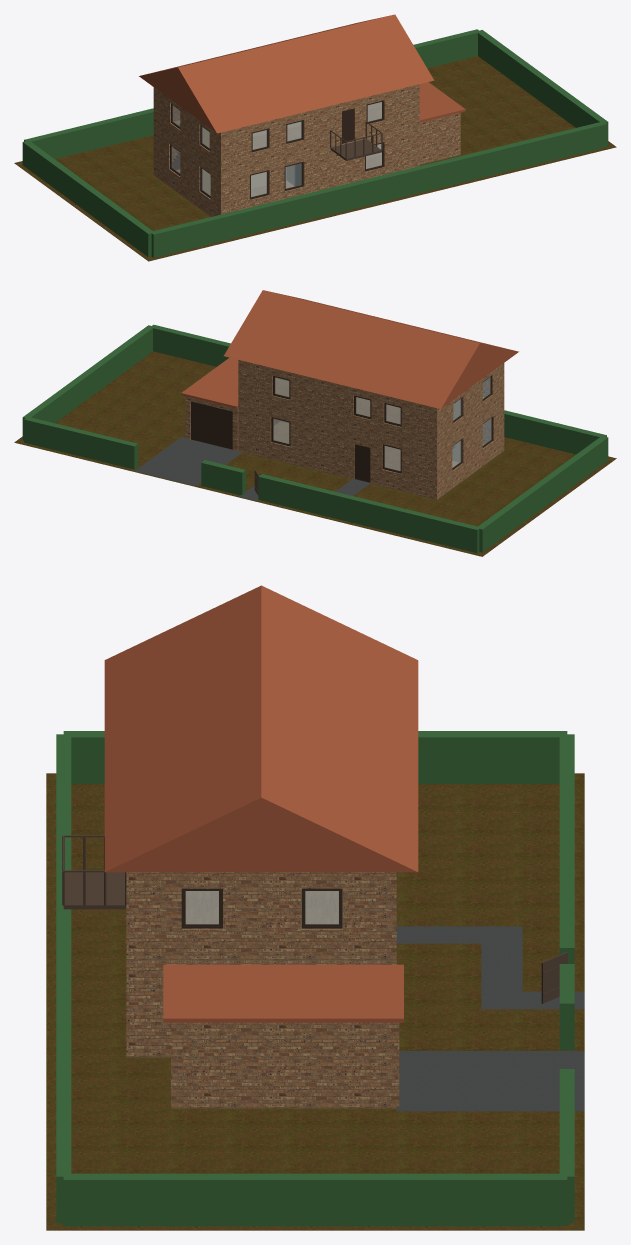
The model's file is house.gltf.
3 views of the same model, one above another, from view 1: azimuth 30°, elevation 25°; view 2: azimuth 150°, elevation 25°; view 3: azimuth 270°, elevation 25° (orthographic). The views are drawn at different scales.
Visible parts, largest first — view 1: hedge, ext_walls, roofs, grass, glass, frames, wood, floor, walls; view 2: ext_walls, hedge, roofs, grass, frames, gravel, glass, floor; view 3: grass, roofs, hedge, ext_walls, gravel, wood, floor, glass, frames.
Boxes of the visible parts, box(x1,y1,x2,y2) form: hedge: box(22, 29, 608, 257); ext_walls: box(153, 84, 460, 216); roofs: box(139, 14, 465, 133); grass: box(14, 56, 616, 261); glass: box(171, 102, 381, 197); frames: box(170, 100, 383, 199); wood: box(172, 121, 382, 169); floor: box(174, 102, 381, 196); walls: box(202, 102, 381, 195); ext_walls: box(185, 360, 504, 499); hedge: box(22, 324, 608, 553); roofs: box(181, 290, 518, 408); grass: box(14, 351, 616, 556); frames: box(191, 375, 492, 482); gravel: box(134, 437, 370, 500); glass: box(273, 377, 491, 470); floor: box(273, 378, 483, 470); grass: box(46, 773, 584, 1230); roofs: box(104, 585, 418, 1022); hedge: box(56, 731, 574, 1226); ext_walls: box(126, 872, 399, 1108); gravel: box(396, 926, 584, 1111); wood: box(62, 835, 567, 1003); floor: box(185, 889, 342, 925); glass: box(185, 891, 338, 924); frames: box(181, 888, 342, 928).
Size of the model in its own units: 28.77 by 7.89 by 14.31.
Materials: 10 (4 with a texture image).
